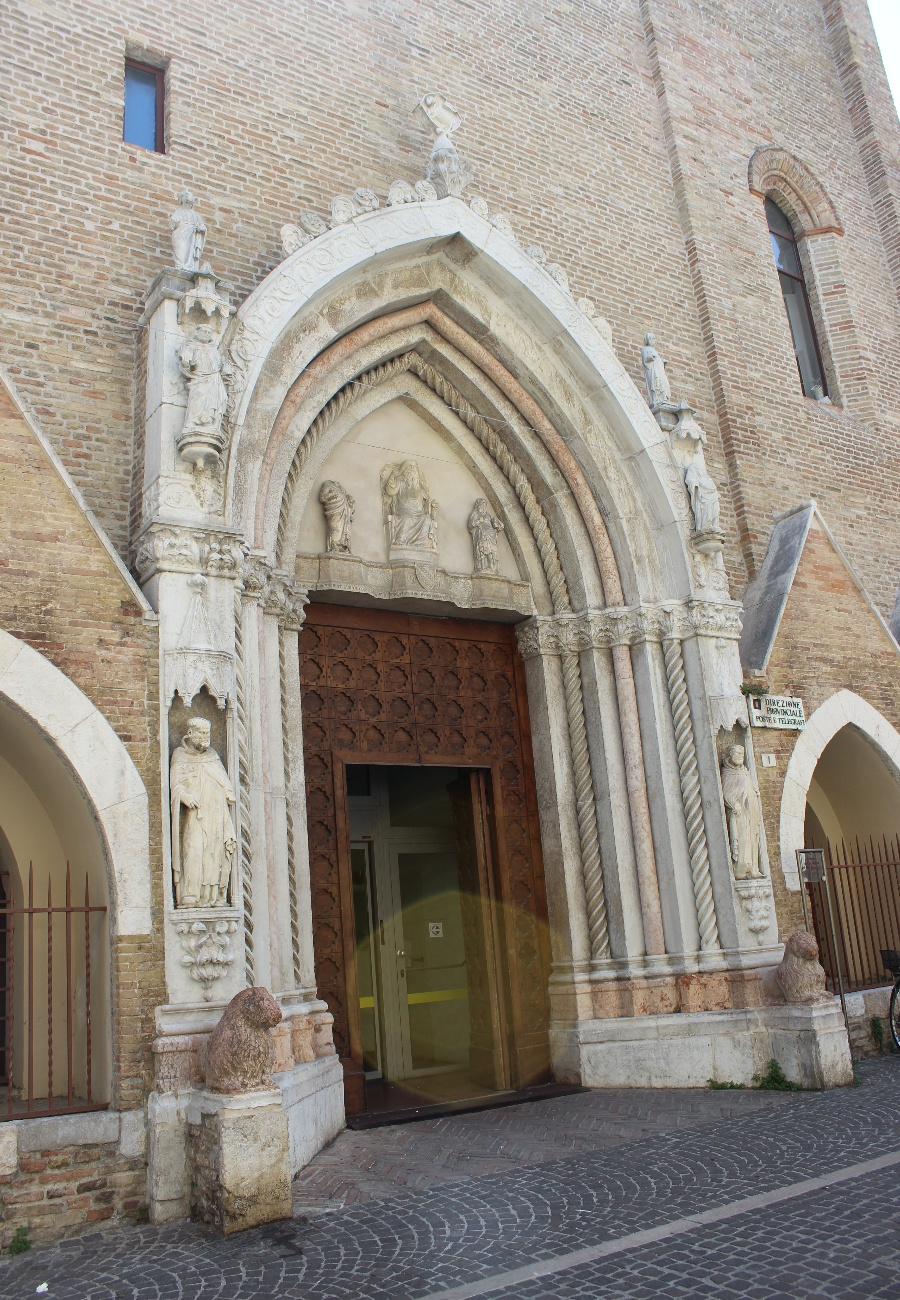Portale San Domenico: (139, 50, 835, 1117)
